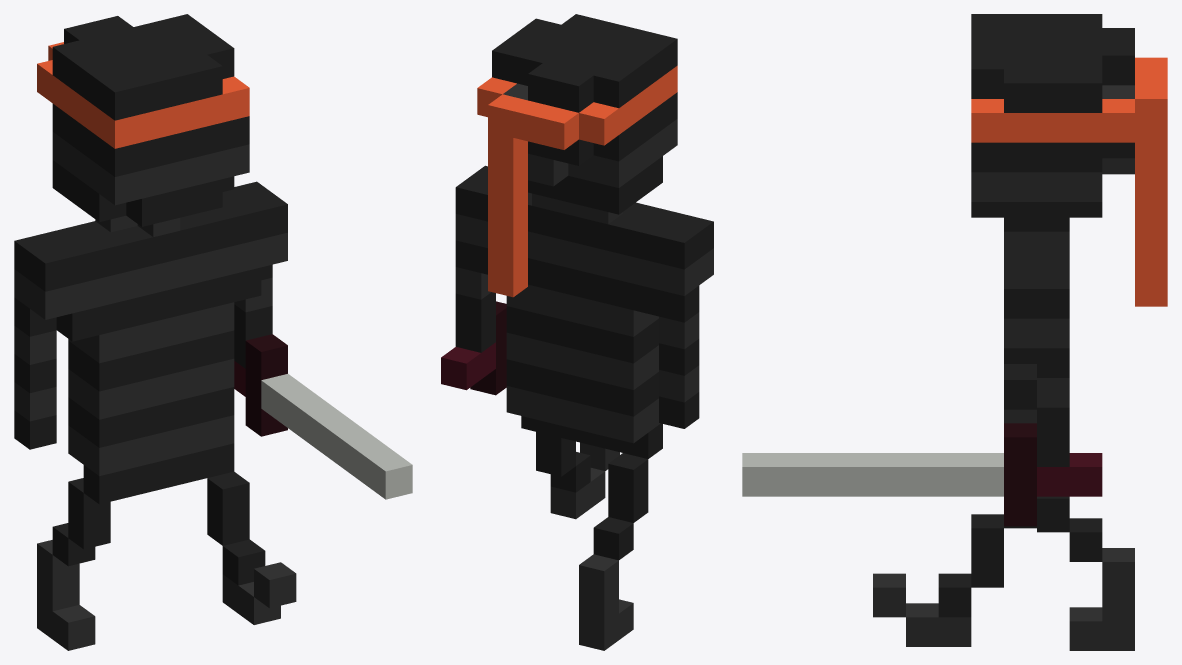
Rendered from SwingingNinjaCharater-0.obj.
3 renders of one model, left to right at view 1: azimuth 30°, elevation 25°; view 2: azimuth 150°, elevation 25°; view 3: azimuth 270°, elevation 25°, orthographic. The views are drawn at different scales.
Visible parts, largest first — view 1: SwingingNinjaCharater-0; view 2: SwingingNinjaCharater-0; view 3: SwingingNinjaCharater-0.
Boxes of the visible parts, bbox=[...] form: SwingingNinjaCharater-0: bbox=[14, 14, 412, 650]; SwingingNinjaCharater-0: bbox=[441, 14, 713, 650]; SwingingNinjaCharater-0: bbox=[742, 14, 1167, 650].
Size of the model in its own units: 9 by 21 by 13.
Materials: 1 (1 with a texture image).
